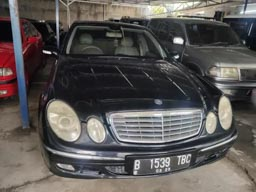plat: (131, 152, 194, 168)
